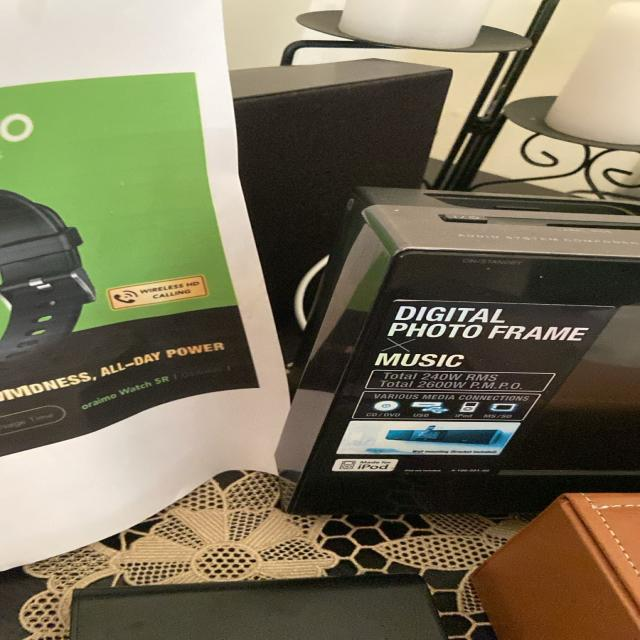Oraimo Watch 5R OSW-820: (77, 362, 236, 419)
